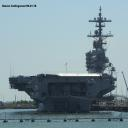Portanaves: (9, 5, 118, 117)
